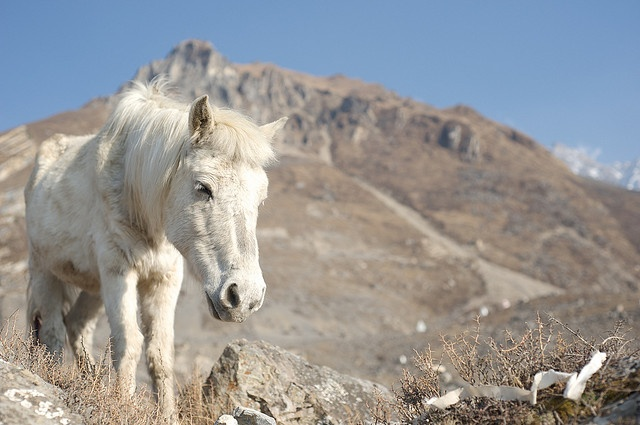Horse: (20, 62, 347, 411)
